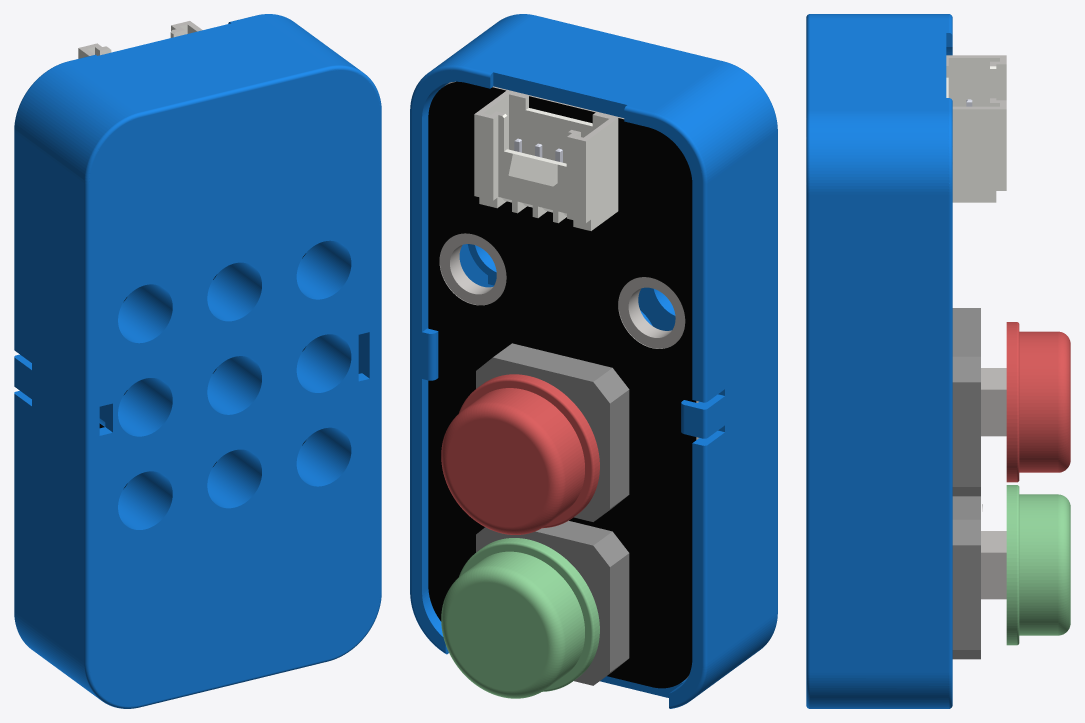
The model's file is ohstem_dual_button.glb.
3 views of the same model, side by side, from view 1: azimuth 30°, elevation 25°; view 2: azimuth 150°, elevation 25°; view 3: azimuth 270°, elevation 25° (orthographic).
Visible parts, largest first — view 1: Node2; view 2: Node2, Node9, Node5, Node8, Node7, Node4, Node6; view 3: Node2, Node7, Node8, Node5, Node4, Node6.
Part boxes in pixels (x1=…): Node2: x1=14, y1=14, x2=381, y2=708; Node2: x1=410, y1=14, x2=777, y2=708; Node9: x1=428, y1=81, x2=696, y2=688; Node5: x1=441, y1=374, x2=599, y2=534; Node8: x1=441, y1=538, x2=599, y2=698; Node7: x1=476, y1=343, x2=629, y2=685; Node4: x1=474, y1=94, x2=618, y2=230; Node6: x1=439, y1=81, x2=698, y2=680; Node2: x1=806, y1=14, x2=952, y2=708; Node7: x1=952, y1=308, x2=980, y2=659; Node8: x1=1006, y1=485, x2=1070, y2=645; Node5: x1=1006, y1=322, x2=1070, y2=482; Node4: x1=946, y1=58, x2=1006, y2=202; Node6: x1=946, y1=55, x2=1006, y2=599.
Size of the model in its own units: 26.6 by 50.9 by 20.6.
